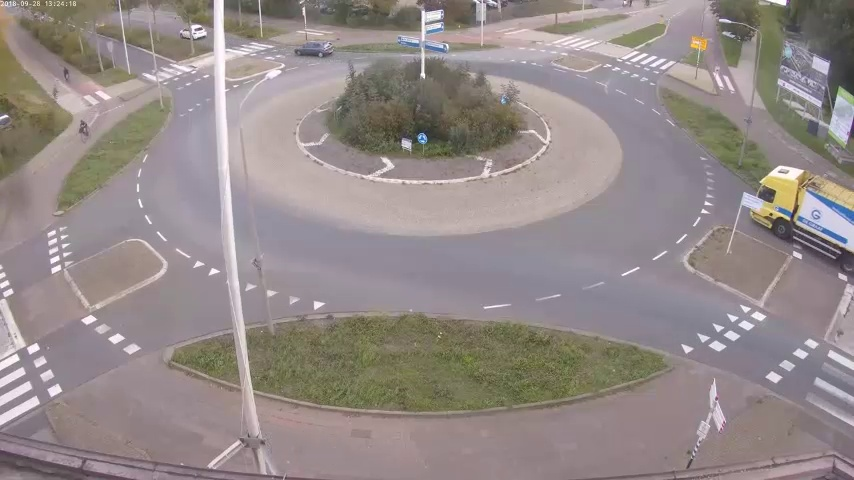bicycle: (78, 119, 88, 141)
car: (286, 39, 335, 58), (179, 19, 204, 44)
truck: (749, 163, 850, 265)
